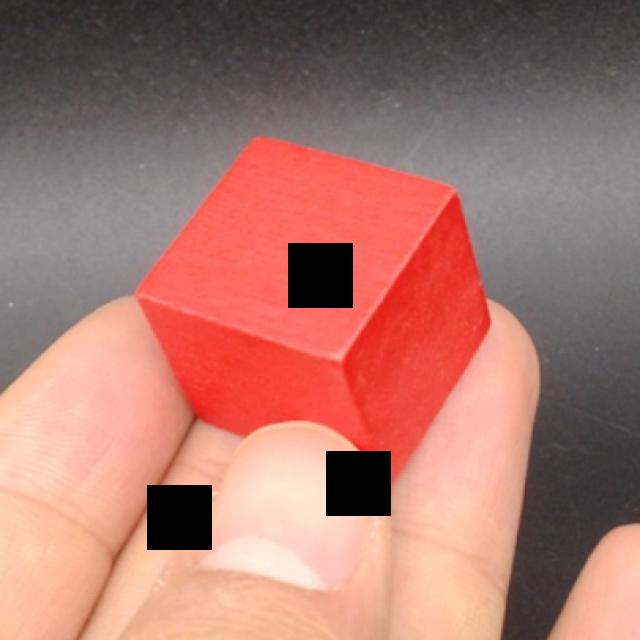red cube: (134, 138, 490, 491)
